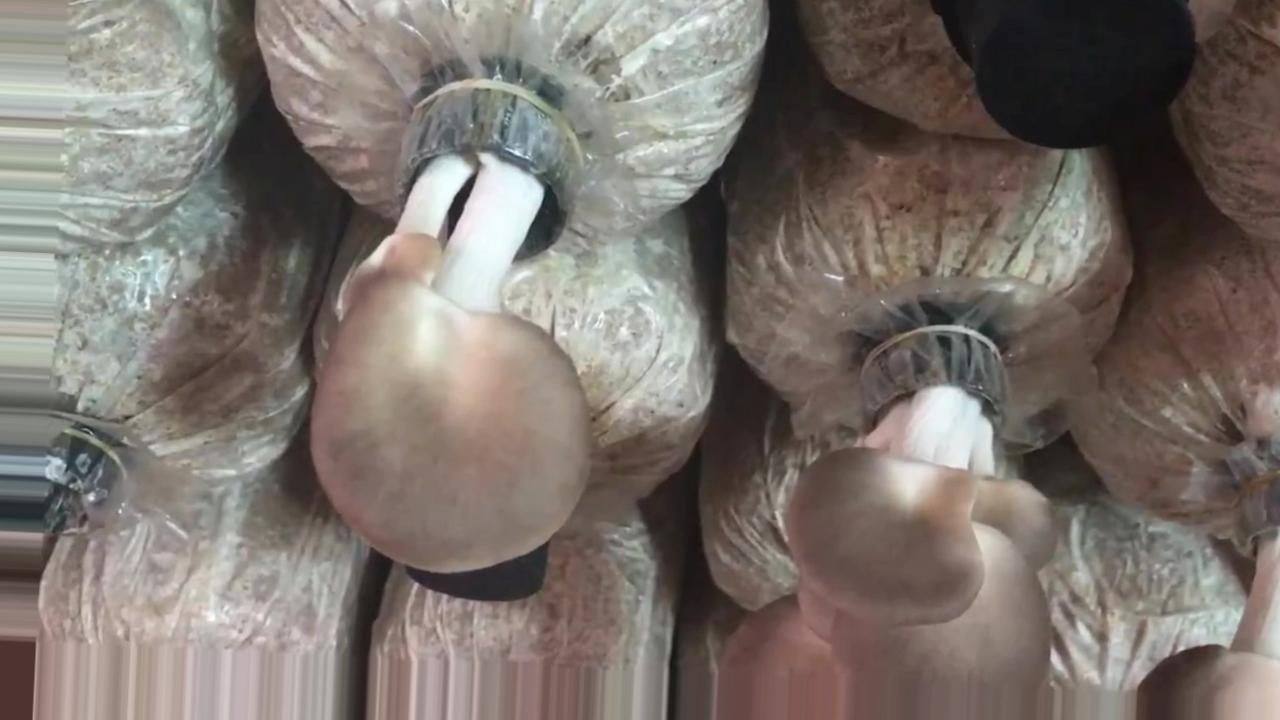nam: (306, 84, 634, 570), (723, 330, 1056, 720), (1136, 463, 1280, 720)
